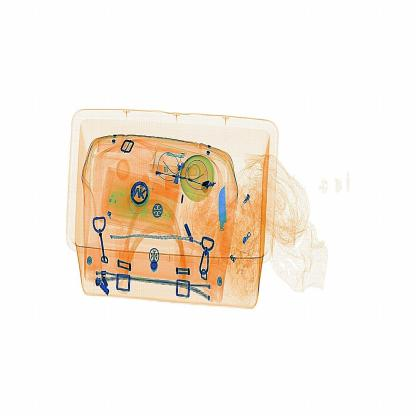wrench: (210, 177, 240, 271)
